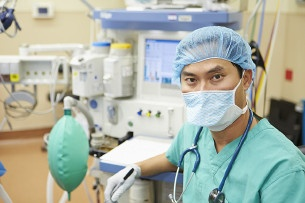Mask: (180, 63, 240, 124)
